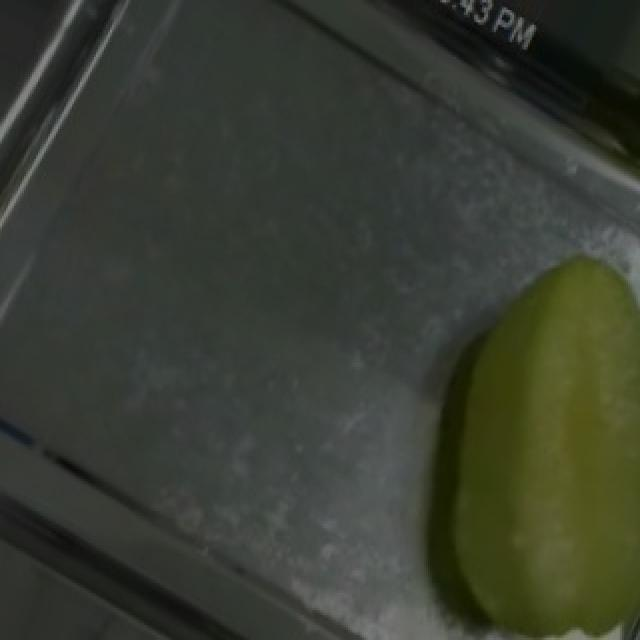fruit: (420, 206, 640, 613)
